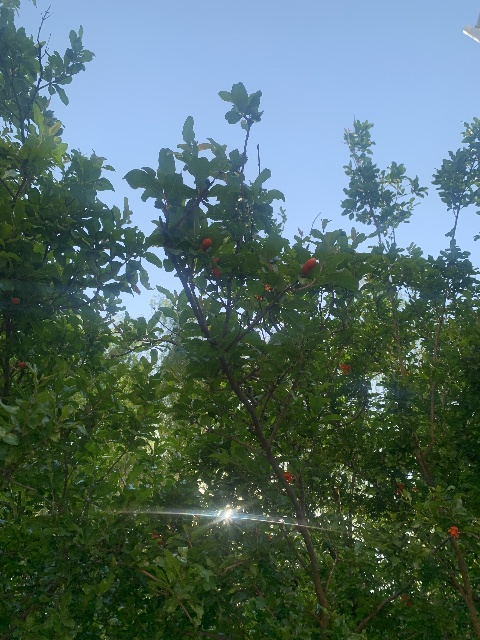bud: (302, 257, 316, 275), (200, 237, 211, 250), (267, 534, 271, 543)
flower: (254, 284, 269, 300), (211, 258, 221, 281), (150, 530, 164, 544), (339, 363, 351, 374), (448, 525, 459, 537), (401, 594, 411, 606), (283, 471, 293, 483), (396, 483, 404, 494)
